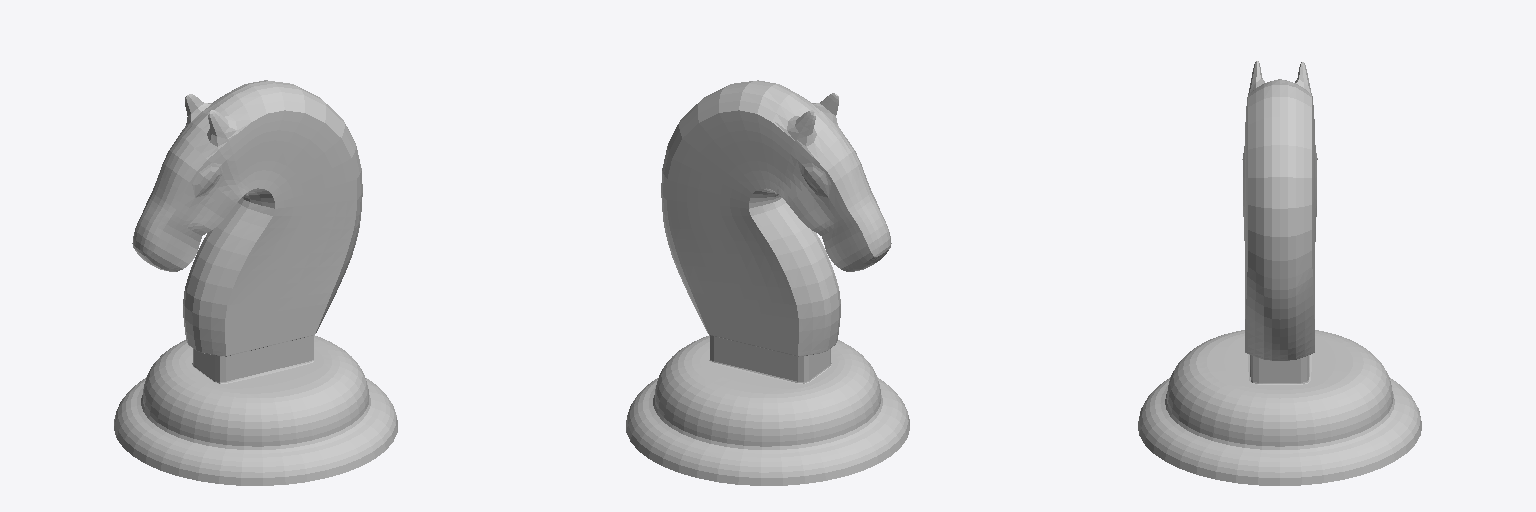
Rendered from finalhorsefar.obj.
The picture shows the model from 3 angles: view 1: azimuth 30°, elevation 25°; view 2: azimuth 150°, elevation 25°; view 3: azimuth 270°, elevation 25°; orthographic projection.
Visible parts, largest first — view 1: black_knight2_Mesh.001; view 2: black_knight2_Mesh.001; view 3: black_knight2_Mesh.001.
Boxes of the visible parts, x1,y1,x2,y2 form: black_knight2_Mesh.001: [114, 80, 397, 485]; black_knight2_Mesh.001: [626, 80, 909, 485]; black_knight2_Mesh.001: [1138, 61, 1421, 485].
Bounding box in the file's own units: 0.5341 × 0.7036 × 0.5341.